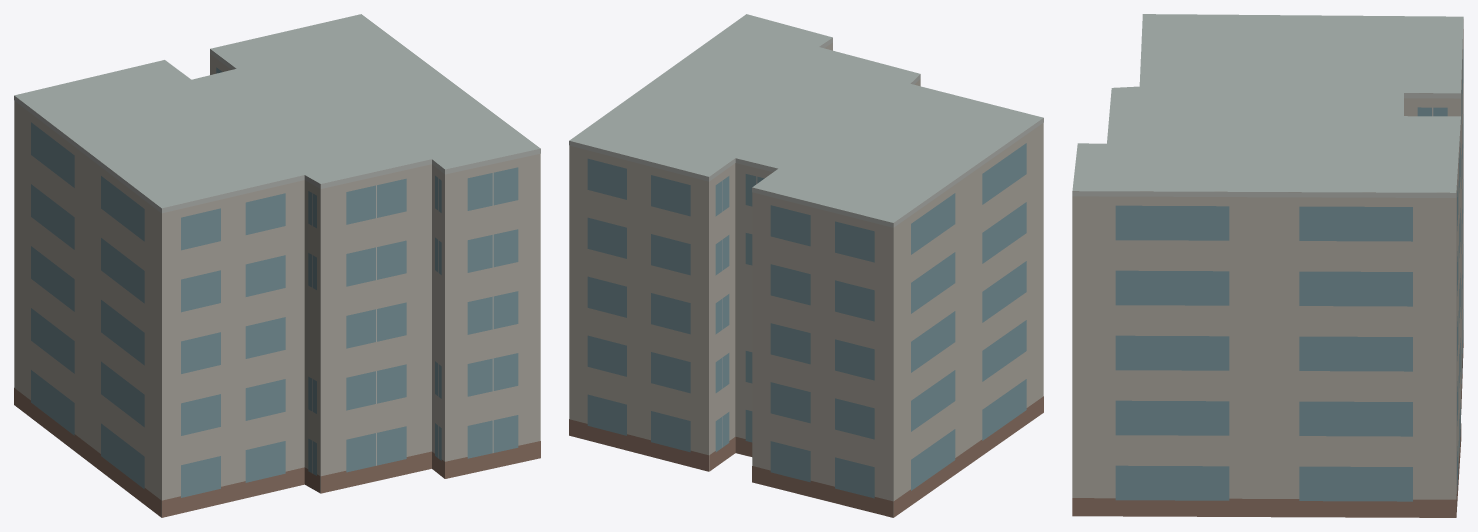
Rendered from survey-upis-32635912.glb.
3 views of the same model, side by side, from view 1: azimuth 30°, elevation 25°; view 2: azimuth 150°, elevation 25°; view 3: azimuth 270°, elevation 25° (orthographic). The views are drawn at different scales.
Visible parts, largest first — view 1: survey-upis-32635912.tmp; view 2: survey-upis-32635912.tmp; view 3: survey-upis-32635912.tmp.
Boxes of the visible parts, x1,y1,x2,y2 form: survey-upis-32635912.tmp: (14, 14, 540, 517); survey-upis-32635912.tmp: (569, 14, 1043, 517); survey-upis-32635912.tmp: (1072, 14, 1463, 517).
Bounding box in the file's own units: 17.76 × 15.05 × 16.42.
